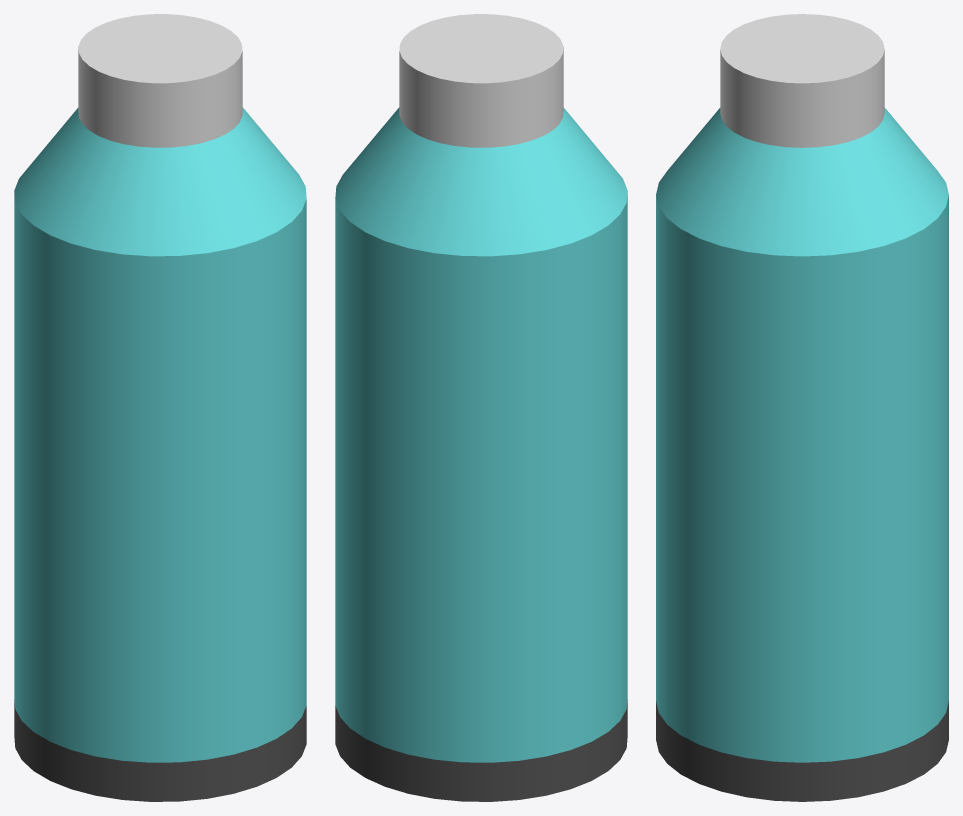
The model's file is water bottle.fbx.
3 views of the same model, side by side, from view 1: azimuth 30°, elevation 25°; view 2: azimuth 150°, elevation 25°; view 3: azimuth 270°, elevation 25° (orthographic).
Parts seen in each view (by area): view 1: Cylinder; view 2: Cylinder; view 3: Cylinder.
Part boxes in pixels (bbox=[...]): Cylinder: bbox=[14, 14, 306, 801]; Cylinder: bbox=[335, 14, 627, 801]; Cylinder: bbox=[656, 14, 948, 801].
Bounding box in the file's own units: 200 × 521 × 200.
